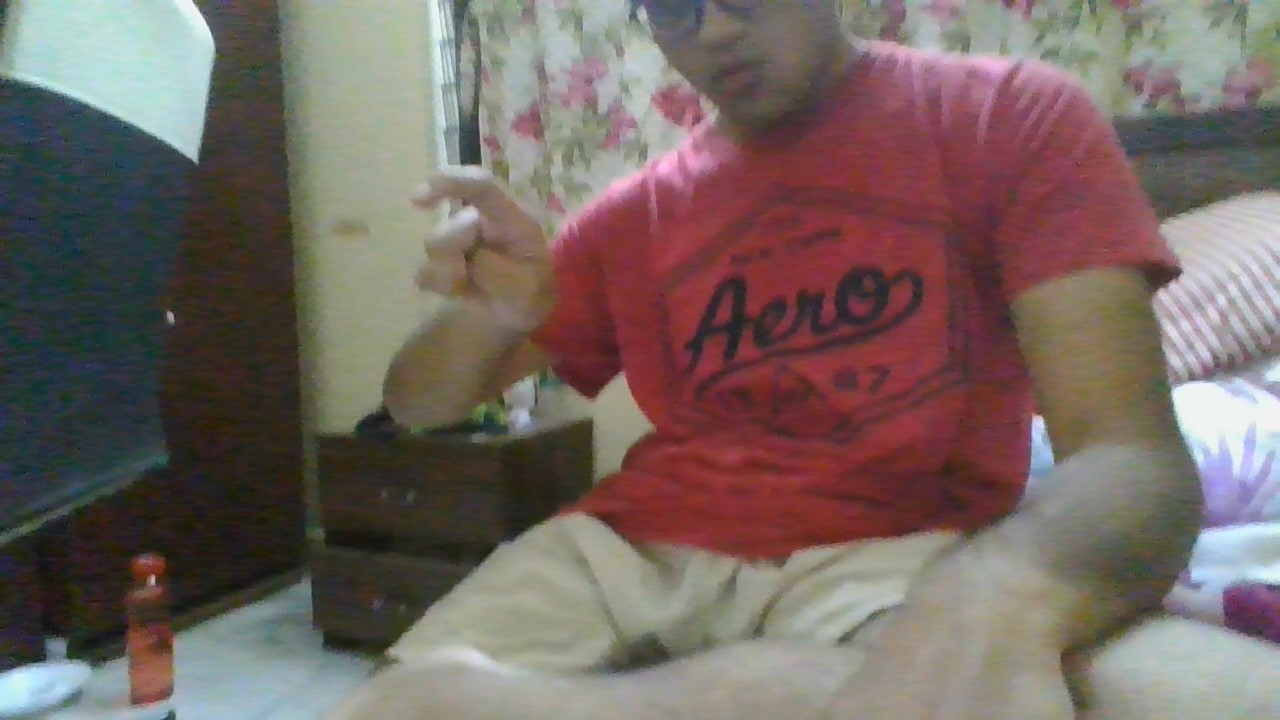x: (403, 150, 559, 344)
